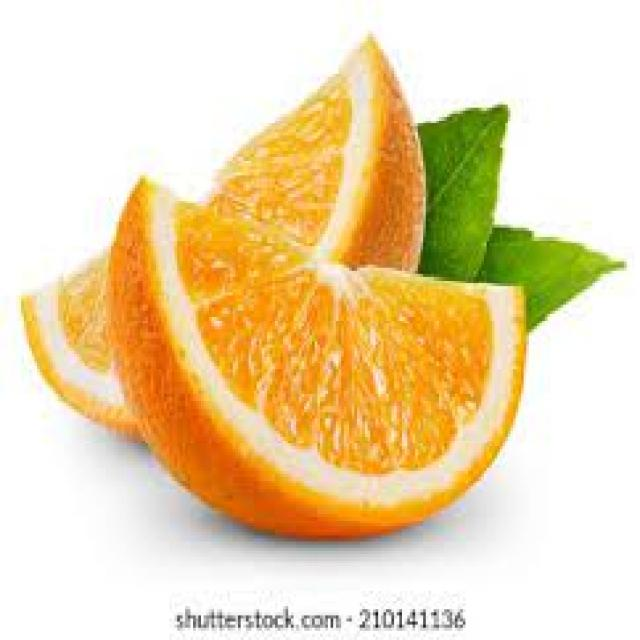orange: (108, 158, 532, 539)
